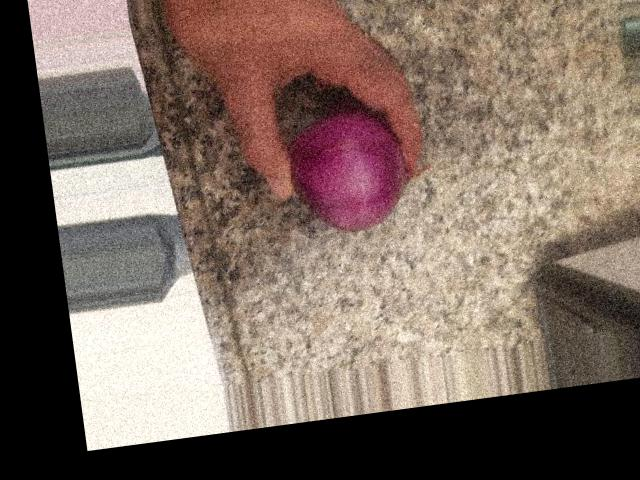onion: (278, 109, 416, 233)
